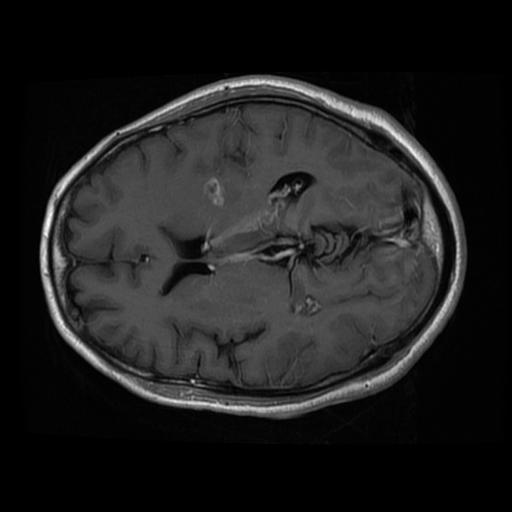glioma: (202, 176, 225, 207)
